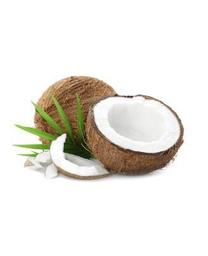coconut: (86, 93, 184, 177), (35, 77, 117, 155)
